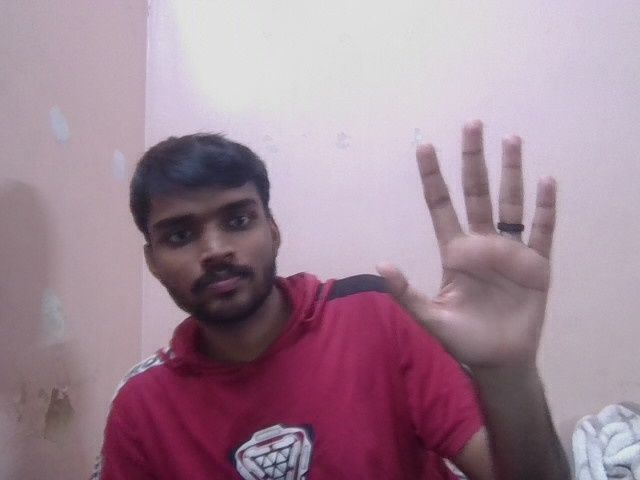Hello: (380, 124, 589, 371)
